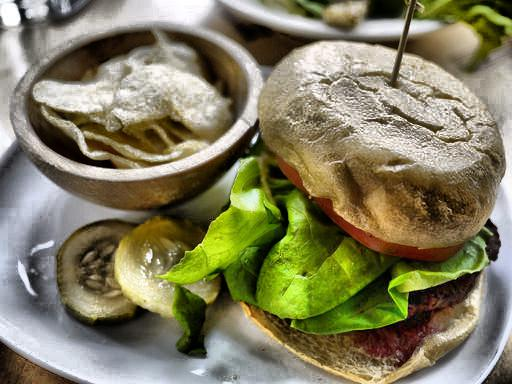burger: (239, 30, 502, 384)
